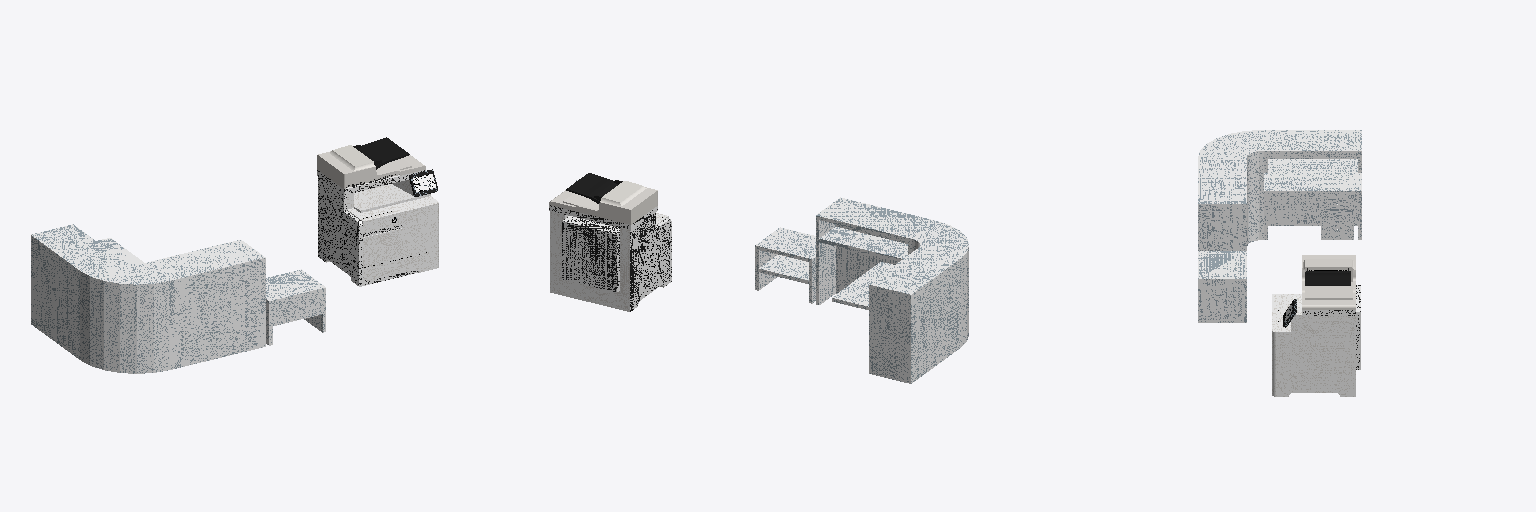
3 views of the same model, side by side, from view 1: azimuth 30°, elevation 25°; view 2: azimuth 150°, elevation 25°; view 3: azimuth 270°, elevation 25° (orthographic).
Parts seen in each view (by area): view 1: Mesh24 Model, Mesh10 Group1 Componente1 Model, Mesh25 Model, Mesh3 Group4 Group2 Group1 Componente1 Model, Mesh1 Group3 Group2 Group1 Componente1 Model, Mesh6 Group5 Group1 Componente1 Model; view 2: Mesh24 Model, Mesh10 Group1 Componente1 Model, Mesh25 Model, Mesh3 Group4 Group2 Group1 Componente1 Model, Mesh1 Group3 Group2 Group1 Componente1 Model; view 3: Mesh24 Model, Mesh10 Group1 Componente1 Model, Mesh25 Model, Mesh3 Group4 Group2 Group1 Componente1 Model, Mesh1 Group3 Group2 Group1 Componente1 Model.
Part boxes in pixels (x1,y1,x2,y2): Mesh24 Model: (31, 224, 265, 373); Mesh10 Group1 Componente1 Model: (317, 170, 438, 286); Mesh25 Model: (266, 269, 325, 345); Mesh3 Group4 Group2 Group1 Componente1 Model: (317, 145, 425, 188); Mesh1 Group3 Group2 Group1 Componente1 Model: (353, 137, 409, 169); Mesh6 Group5 Group1 Componente1 Model: (409, 169, 437, 196); Mesh24 Model: (816, 197, 968, 383); Mesh10 Group1 Componente1 Model: (549, 205, 671, 311); Mesh25 Model: (755, 227, 815, 303); Mesh3 Group4 Group2 Group1 Componente1 Model: (549, 181, 657, 224); Mesh1 Group3 Group2 Group1 Componente1 Model: (566, 173, 622, 203); Mesh24 Model: (1198, 130, 1361, 250); Mesh10 Group1 Componente1 Model: (1272, 285, 1360, 396); Mesh25 Model: (1198, 251, 1246, 322); Mesh3 Group4 Group2 Group1 Componente1 Model: (1302, 255, 1355, 309); Mesh1 Group3 Group2 Group1 Componente1 Model: (1305, 268, 1350, 285).
Size of the model in its own units: 5.18 by 1.43 by 2.
8 materials, 1 textured.